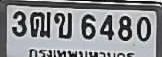0: (136, 16, 150, 41)
3: (11, 10, 26, 36)
4: (99, 14, 113, 39)
6: (81, 13, 95, 38)
8: (117, 15, 131, 40)
A02: (53, 12, 71, 38)
A18: (29, 11, 50, 37)
